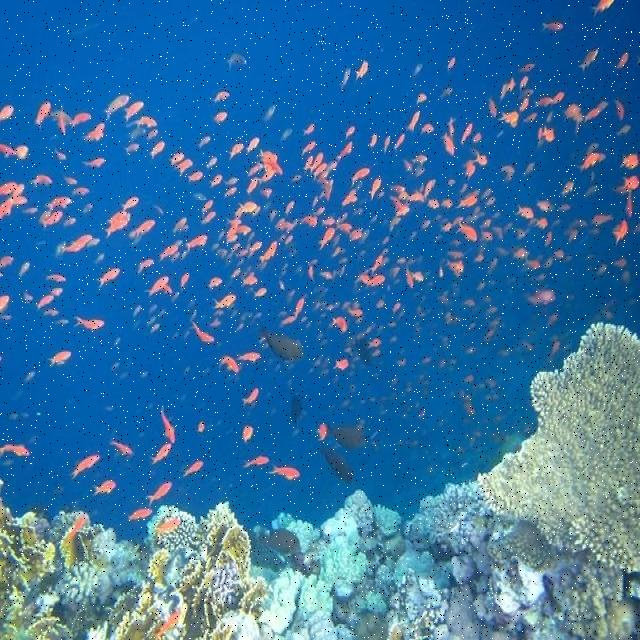fish: (209, 200, 263, 290), (302, 139, 353, 209), (386, 179, 437, 230), (254, 315, 302, 361), (127, 480, 174, 523), (330, 417, 381, 454), (149, 403, 176, 468), (246, 149, 284, 195), (314, 441, 353, 484), (103, 196, 140, 240), (122, 115, 158, 157), (273, 206, 326, 233), (158, 234, 209, 262), (51, 148, 106, 168), (38, 197, 72, 229), (0, 181, 27, 219), (217, 351, 261, 374), (58, 234, 101, 257), (321, 217, 362, 241), (224, 137, 261, 162), (70, 454, 100, 480), (101, 94, 129, 121), (33, 287, 64, 311), (127, 220, 156, 245), (464, 149, 488, 179), (167, 151, 193, 178), (143, 276, 173, 299), (440, 116, 457, 156), (266, 462, 302, 480), (280, 298, 304, 325), (531, 90, 565, 109), (576, 152, 608, 172), (186, 320, 215, 342), (577, 48, 599, 75), (455, 217, 478, 242), (94, 267, 120, 289), (33, 100, 52, 130), (526, 287, 556, 306), (46, 350, 72, 371), (73, 315, 105, 332), (121, 100, 144, 123), (238, 454, 270, 470), (1, 144, 31, 161), (316, 226, 335, 252), (108, 440, 135, 458), (257, 240, 278, 263), (224, 52, 248, 72), (91, 479, 117, 497), (239, 386, 260, 408), (611, 218, 628, 245), (181, 460, 205, 479), (614, 175, 639, 193), (1, 443, 31, 458), (82, 123, 105, 142), (349, 167, 370, 187), (211, 294, 237, 310), (444, 258, 464, 277), (70, 112, 92, 129), (512, 204, 535, 220), (496, 111, 519, 127), (367, 178, 382, 202), (354, 59, 369, 82), (478, 218, 493, 241), (619, 152, 639, 169), (360, 274, 385, 287), (330, 316, 348, 334), (147, 141, 165, 159), (209, 90, 230, 105), (30, 174, 54, 187), (455, 195, 478, 208), (337, 69, 350, 92), (592, 213, 616, 225), (401, 263, 413, 287), (369, 254, 384, 273), (211, 111, 228, 127), (300, 140, 316, 157), (198, 198, 214, 215), (535, 198, 552, 213), (559, 181, 574, 198), (16, 261, 31, 278), (410, 154, 428, 168), (333, 357, 350, 371), (206, 276, 223, 290), (541, 22, 564, 32), (209, 173, 223, 189), (251, 287, 267, 301), (45, 272, 67, 282), (1, 105, 14, 121), (186, 171, 204, 182), (367, 337, 381, 351), (301, 123, 316, 136), (222, 186, 237, 198), (381, 136, 390, 155), (512, 248, 528, 258), (367, 133, 377, 148)
reefs: (0, 321, 639, 639)
